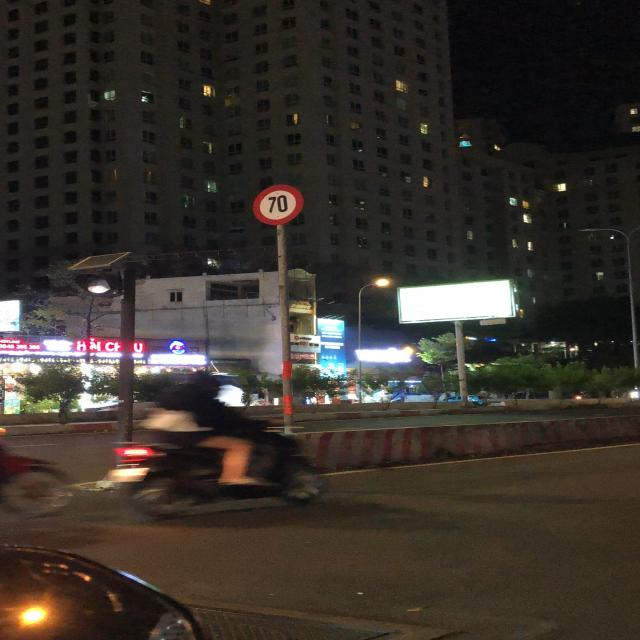Bien bao toc do toi da cho phep: (251, 180, 312, 226)
